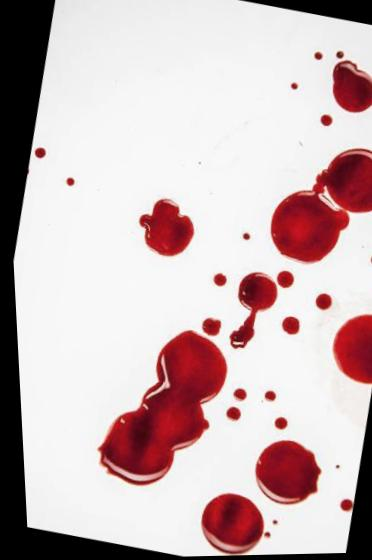Fire: (92, 51, 372, 556), (328, 313, 372, 387), (25, 137, 82, 188)
